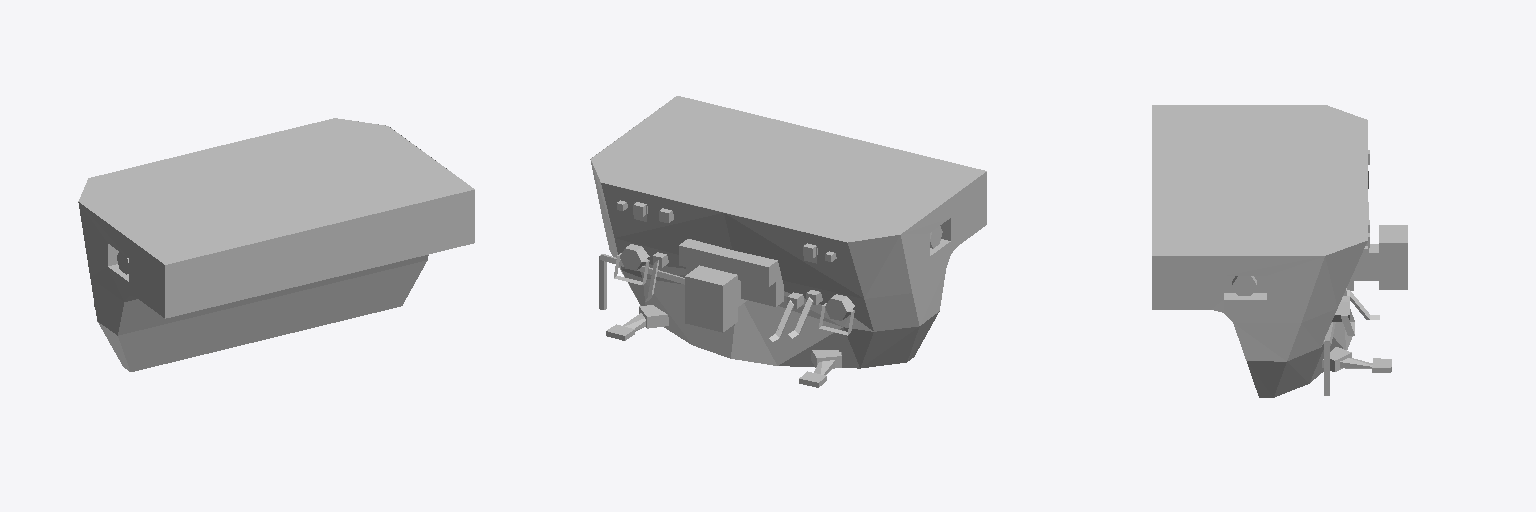
Rendered from hxd3d_cowcatcher.obj.
3 views of the same model, side by side, from view 1: azimuth 30°, elevation 25°; view 2: azimuth 150°, elevation 25°; view 3: azimuth 270°, elevation 25° (orthographic).
Parts seen in each view (by area): view 1: cube_selection_selection_selection_selection_selection_selection; view 2: cube_selection_selection_selection_selection_selection_selection; view 3: cube_selection_selection_selection_selection_selection_selection.
Part boxes in pixels (bbox=[...]): cube_selection_selection_selection_selection_selection_selection: bbox=[78, 118, 474, 371]; cube_selection_selection_selection_selection_selection_selection: bbox=[590, 96, 986, 387]; cube_selection_selection_selection_selection_selection_selection: bbox=[1152, 105, 1407, 397].
Bounding box in the file's own units: 3.02 × 1.41 × 2.17.